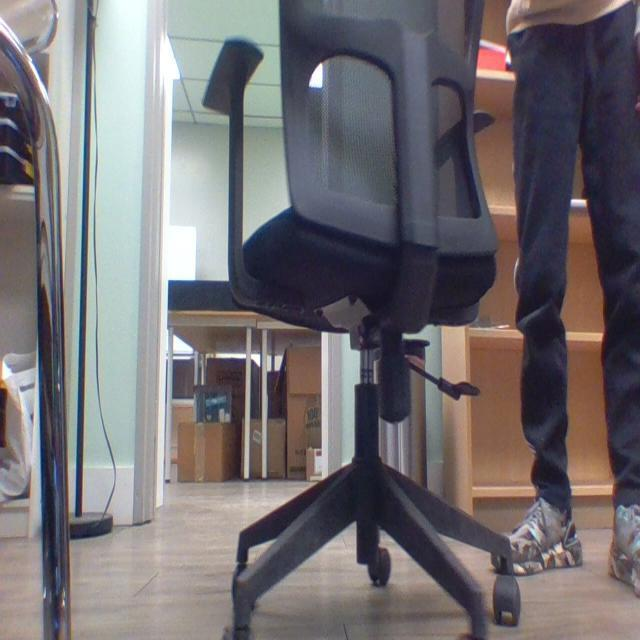chair: (198, 5, 530, 640)
